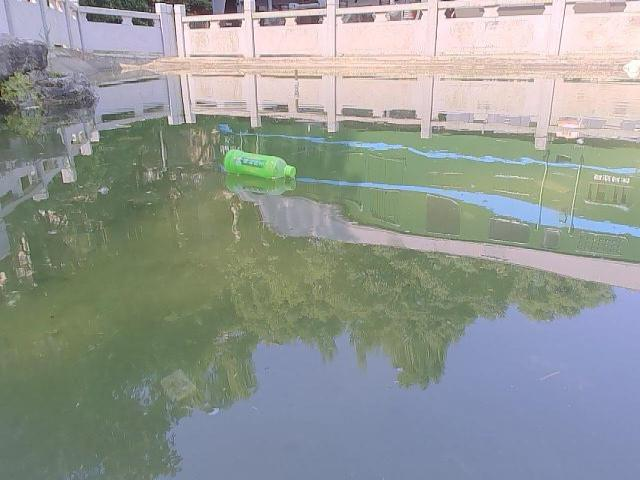Bottle: (220, 148, 298, 182)
